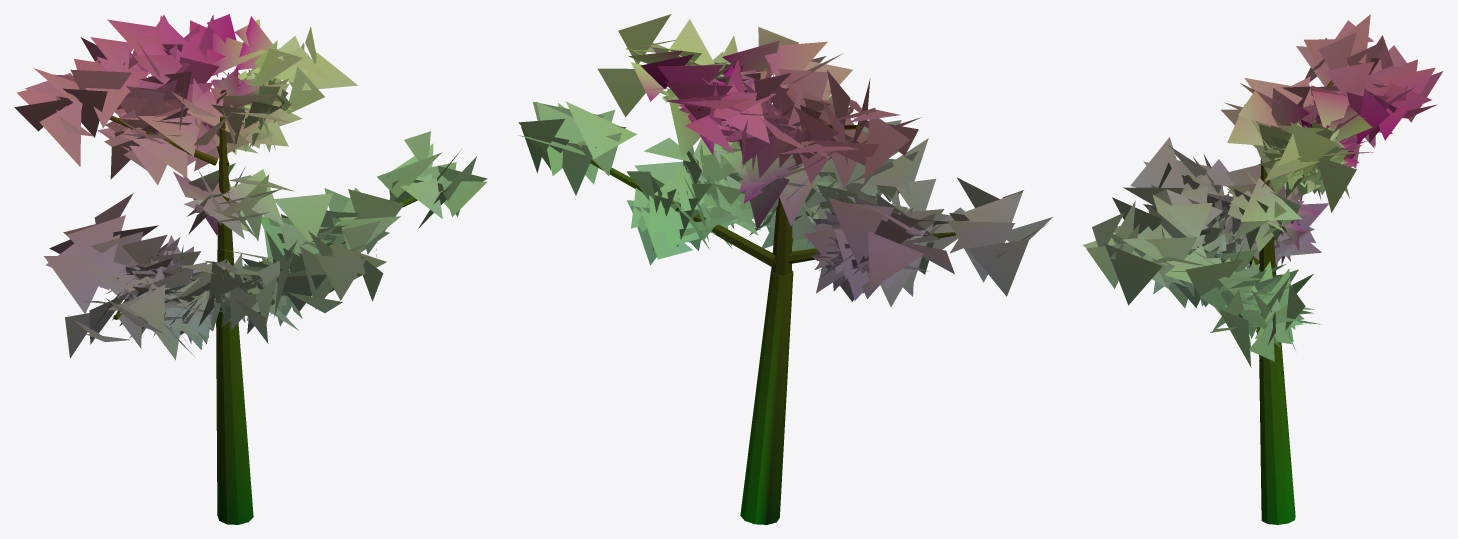
File: ecological_savanna_young_01.glb
The picture shows the model from 3 angles, left to right: view 1: azimuth 30°, elevation 25°; view 2: azimuth 150°, elevation 25°; view 3: azimuth 270°, elevation 25°; orthographic projection. The views are drawn at different scales.
Visible parts, largest first — view 1: ecological_savanna_young_01; view 2: ecological_savanna_young_01; view 3: ecological_savanna_young_01.
Part boxes in pixels (x1,y1,x2,y2): ecological_savanna_young_01: [14, 14, 487, 524]; ecological_savanna_young_01: [518, 14, 1052, 524]; ecological_savanna_young_01: [1082, 14, 1443, 524].
Bounding box in the file's own units: 9.44 × 9.25 × 6.9.
